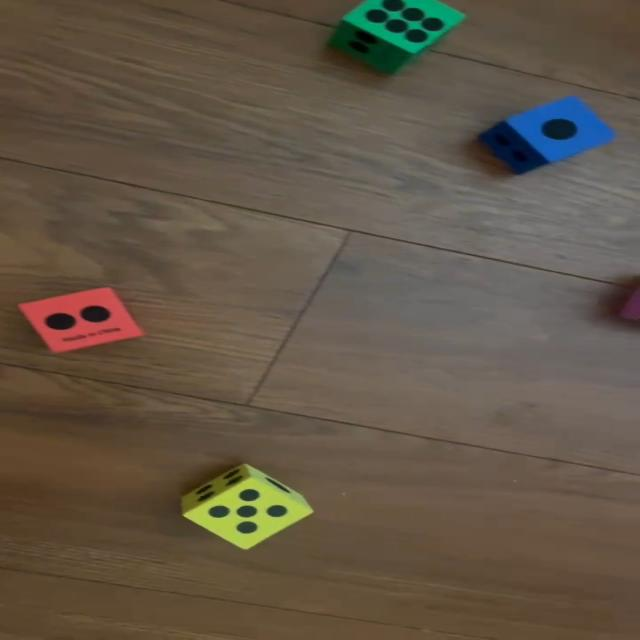blue_block: (484, 96, 616, 172)
red_block: (21, 288, 143, 353)
